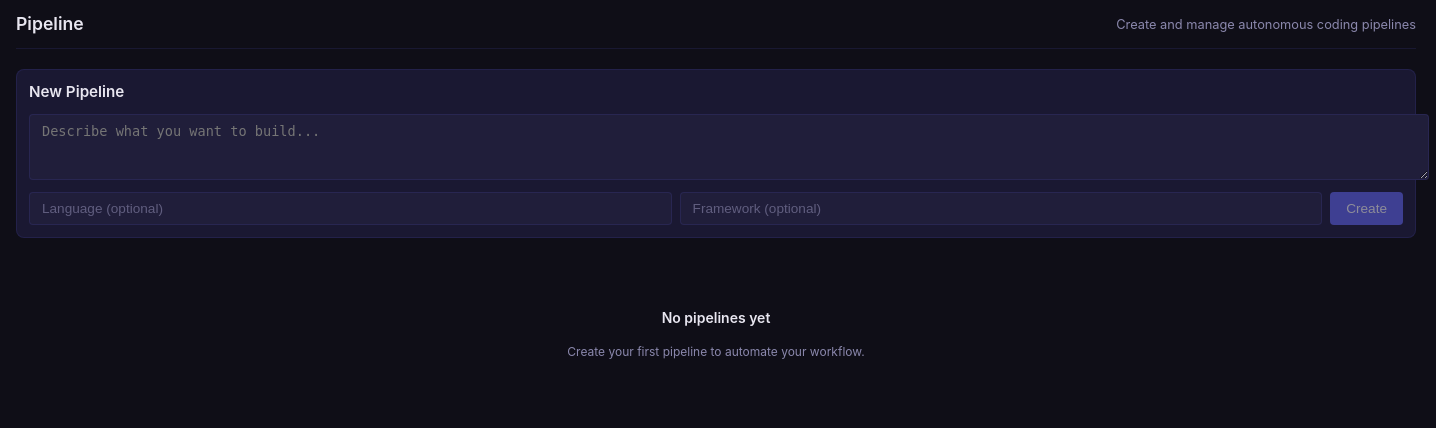
Test: PipelinePanel › shows an error message when the fetch rejects (network error)
In the text box with placeholder "Describe what you want to build...": point(729, 147) [29,114,1429,180], type "Scaffold a React app"
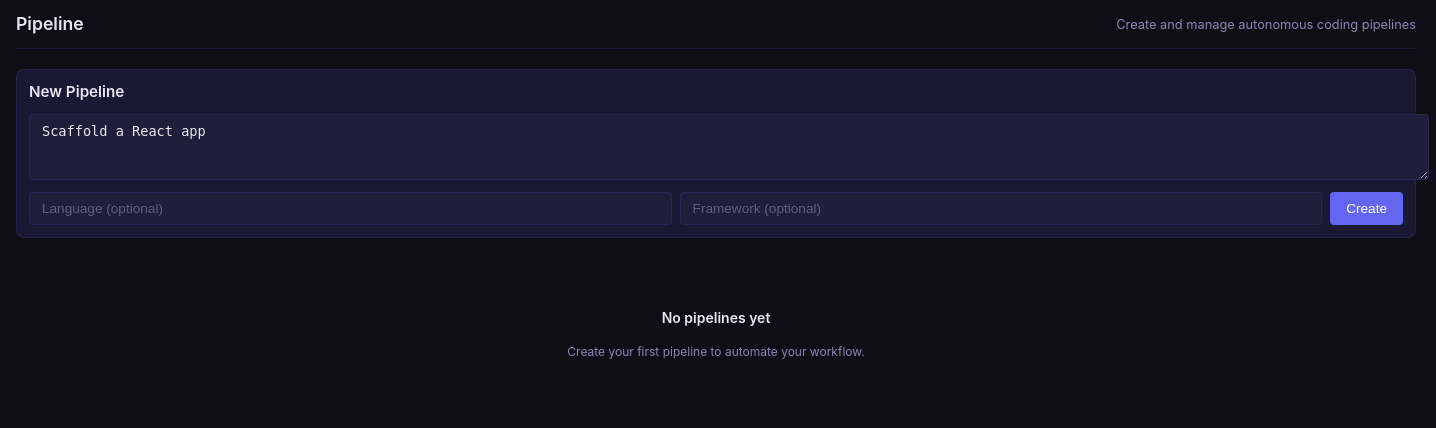
Click the button "Create": point(1367, 208) [1330,192,1403,225]
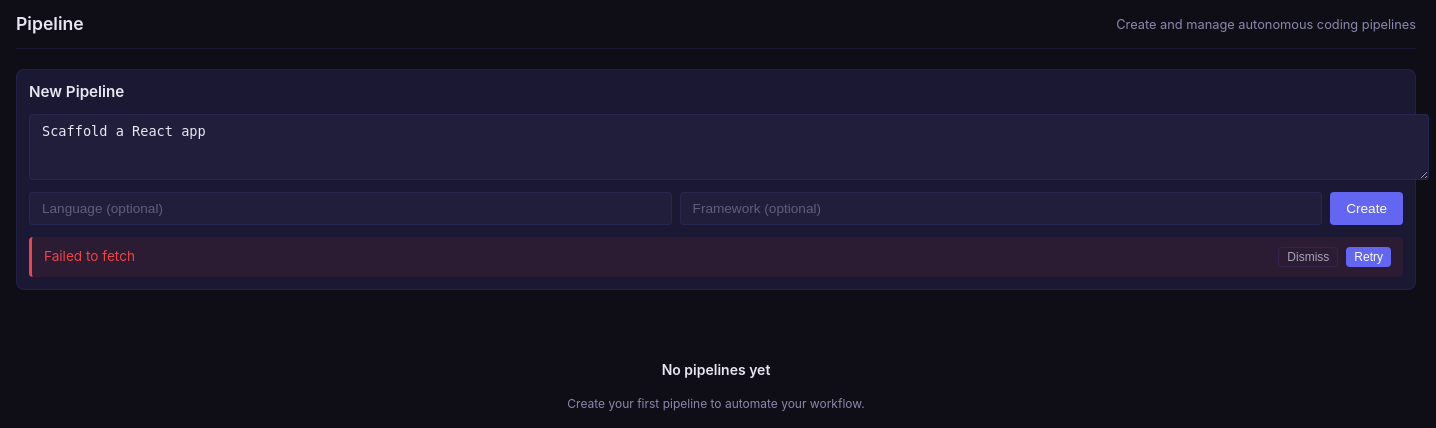
Expected: the text "Failed to fetch" is shown, [44,248,135,266]
